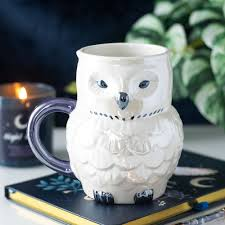mug: (20, 35, 189, 206)
